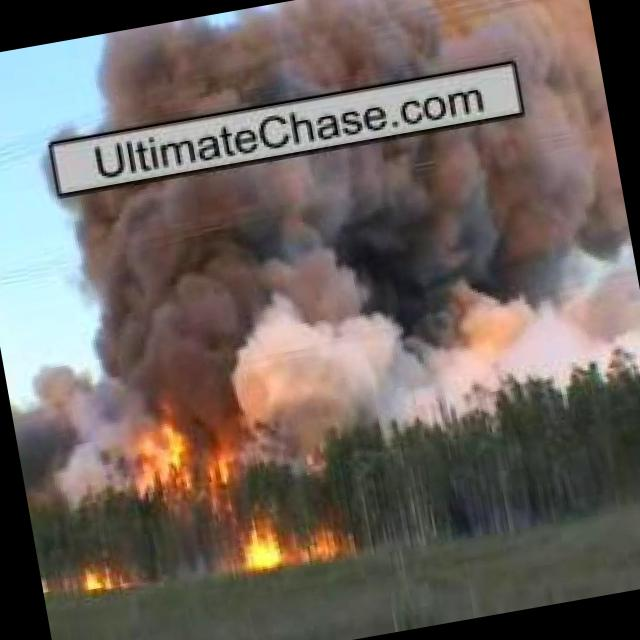Fire: (126, 388, 194, 488), (228, 504, 286, 570), (307, 529, 345, 562), (78, 568, 110, 588)
Smoke: (53, 97, 640, 455), (81, 0, 595, 133)
